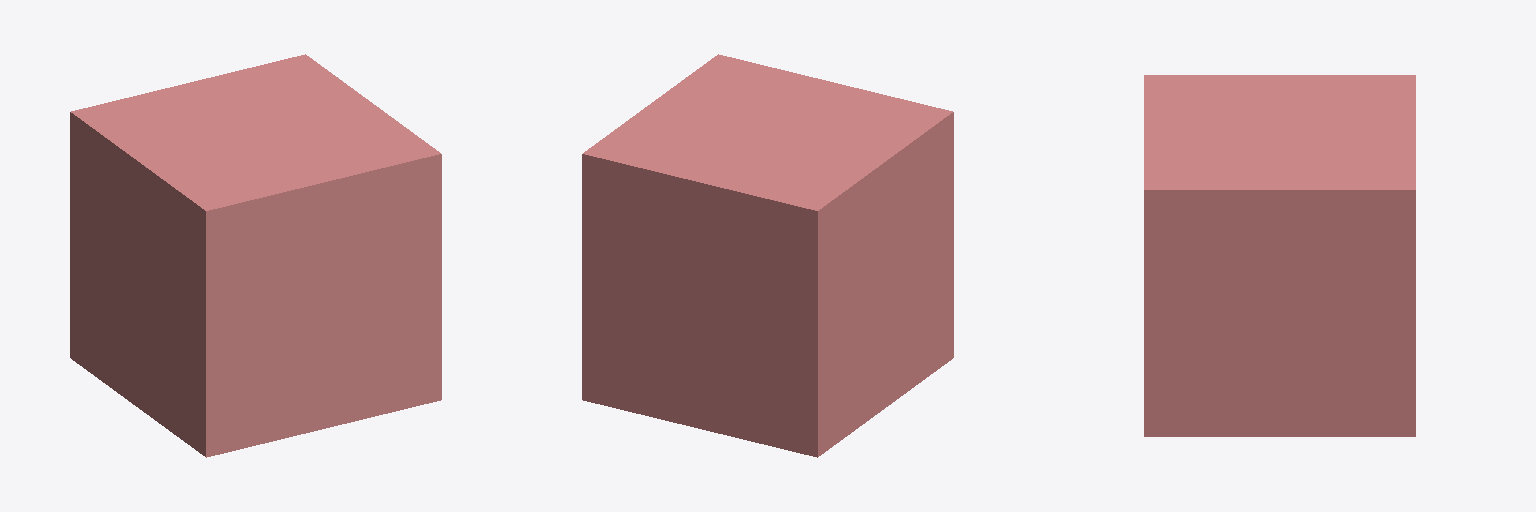
File: big_box1.obj
3 renders of one model, left to right at view 1: azimuth 30°, elevation 25°; view 2: azimuth 150°, elevation 25°; view 3: azimuth 270°, elevation 25°, orthographic.
Parts seen in each view (by area): view 1: Box001; view 2: Box001; view 3: Box001.
Boxes of the visible parts, x1,y1,x2,y2 form: Box001: [70, 54, 441, 457]; Box001: [582, 54, 953, 457]; Box001: [1144, 75, 1415, 436].
Bounding box in the file's own units: 10 × 10 × 10.